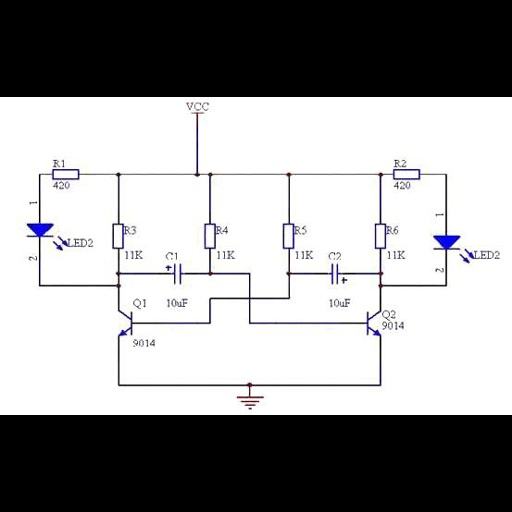firstled: (20, 218, 68, 254), (428, 232, 474, 266)
firstpolarcapacitor: (325, 261, 350, 287), (162, 262, 187, 287)
firstresistance: (200, 220, 216, 255), (388, 167, 425, 182), (279, 222, 295, 253), (109, 220, 124, 253), (47, 168, 87, 180), (372, 221, 387, 253)
gnd: (233, 393, 268, 412)
npn: (111, 305, 137, 340), (358, 308, 383, 343)
